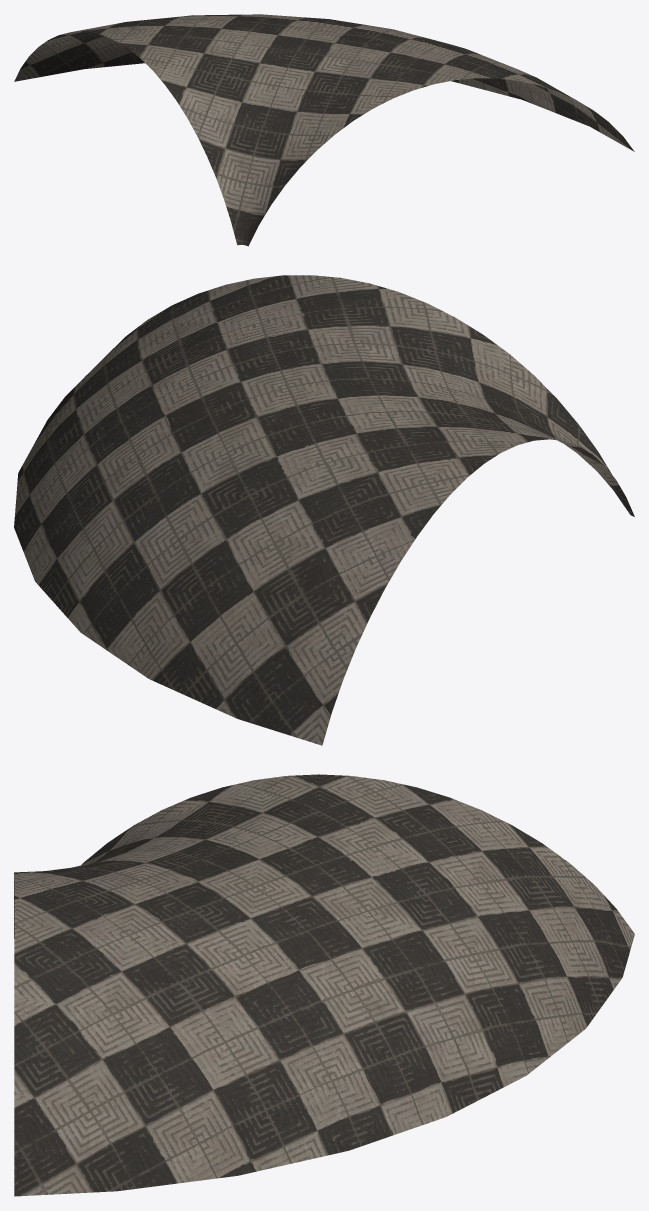
File: FBX_Ceiling_Corner.fbx
3 renders of one model, top to bottom at view 1: azimuth 30°, elevation 25°; view 2: azimuth 150°, elevation 25°; view 3: azimuth 270°, elevation 25°, orthographic. The views are drawn at different scales.
Parts seen in each view (by area): view 1: Ceiling_Corner; view 2: Ceiling_Corner; view 3: Ceiling_Corner.
Boxes of the visible parts, x1=… form: Ceiling_Corner: x1=14, y1=14, x2=634, y2=246; Ceiling_Corner: x1=14, y1=275, x2=634, y2=745; Ceiling_Corner: x1=14, y1=774, x2=634, y2=1196.
Bounding box in the file's own units: 1019 × 289 × 1019.
1 material, 1 textured.
